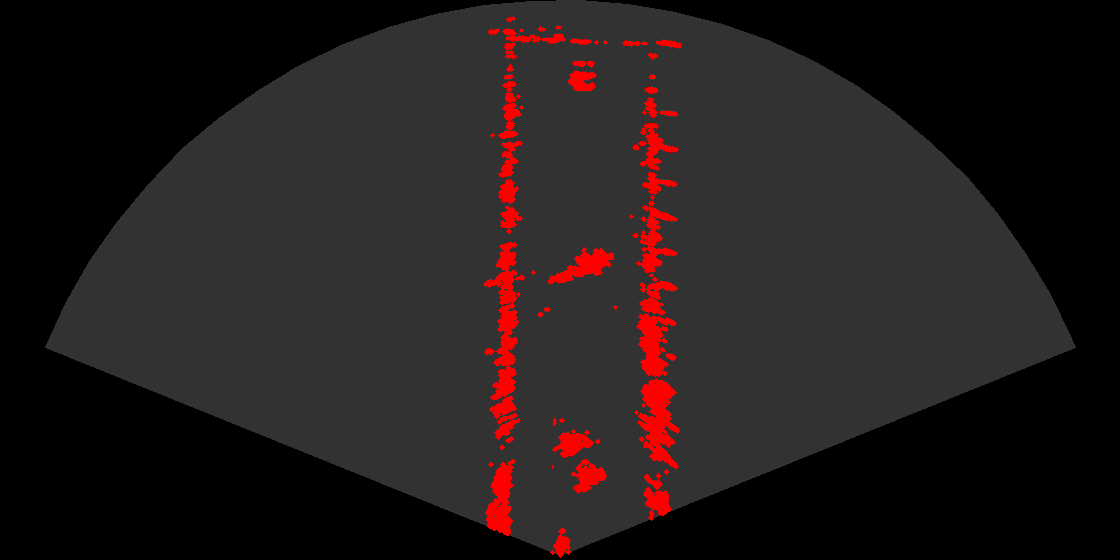ball: (548, 53, 608, 94)
cage: (552, 418, 615, 502)
frogman: (546, 241, 614, 288)
